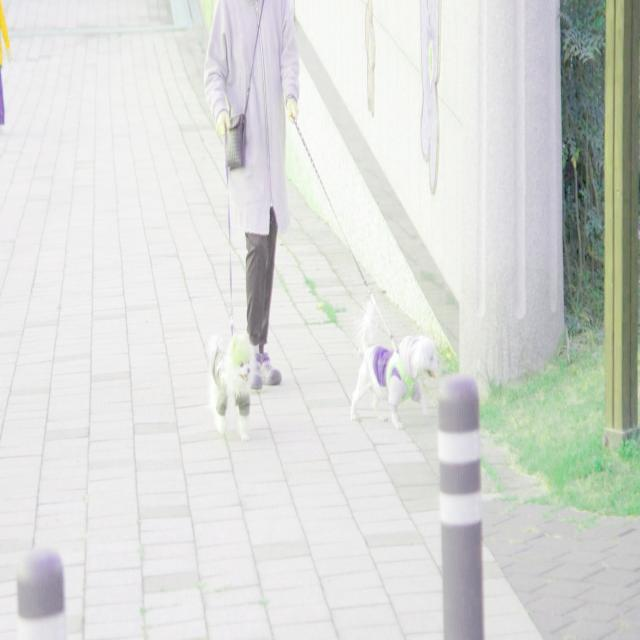Leashed_Dog: (261, 96, 439, 430), (207, 86, 253, 444)
